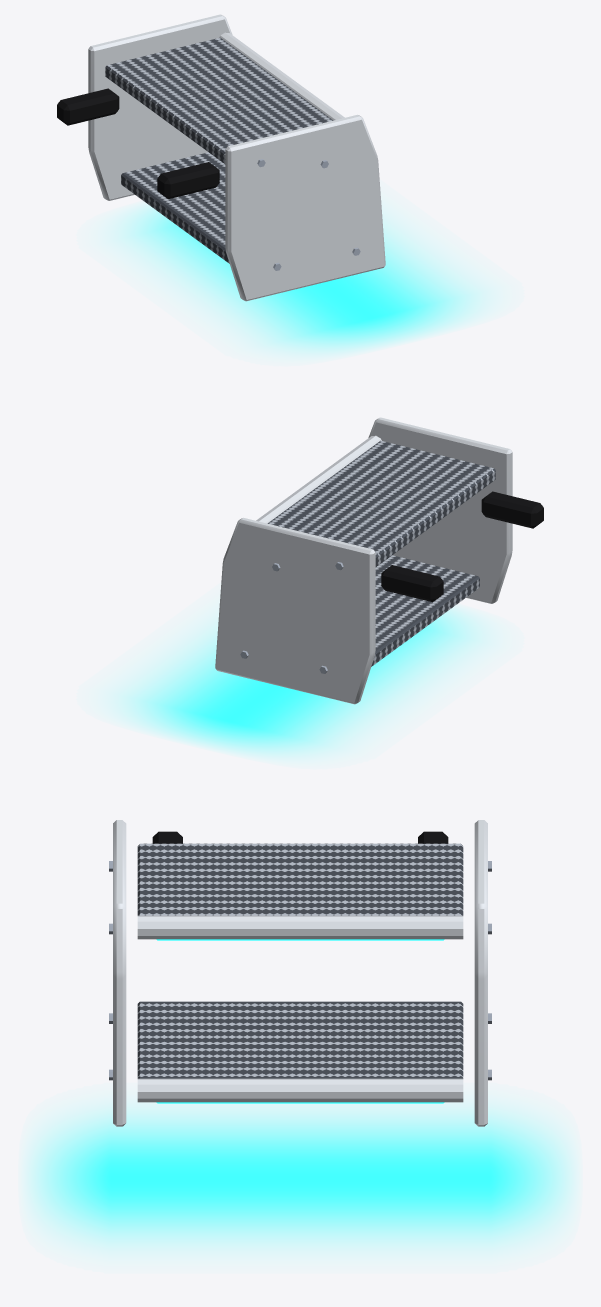
File: step_lit_dx.glb
The picture shows the model from 3 angles, top to bottom: view 1: azimuth 30°, elevation 25°; view 2: azimuth 150°, elevation 25°; view 3: azimuth 270°, elevation 25°; orthographic projection. The views are drawn at different scales.
Visible parts, largest first — view 1: chrome, glow_floor_cyan, diamond, plastic_black; view 2: chrome, glow_floor_cyan, diamond, plastic_black; view 3: glow_floor_cyan, diamond, chrome, lamp_cyan, plastic_black.
Boxes of the visible parts, x1=… form: chrome: x1=88, y1=14, x2=385, y2=301; glow_floor_cyan: x1=118, y1=206, x2=482, y2=352; diamond: x1=105, y1=37, x2=333, y2=263; plastic_black: x1=57, y1=88, x2=219, y2=199; chrome: x1=215, y1=417, x2=512, y2=704; glow_floor_cyan: x1=118, y1=609, x2=482, y2=755; diamond: x1=267, y1=440, x2=495, y2=666; plastic_black: x1=381, y1=491, x2=543, y2=602; glow_floor_cyan: x1=29, y1=1108, x2=571, y2=1247; diamond: x1=137, y1=843, x2=463, y2=1078; chrome: x1=113, y1=820, x2=487, y2=1126; lamp_cyan: x1=156, y1=939, x2=444, y2=1103; plastic_black: x1=152, y1=831, x2=448, y2=843.
Bounding box in the file's own units: 0.93 × 0.49 × 0.95.
6 materials, 2 textured.
